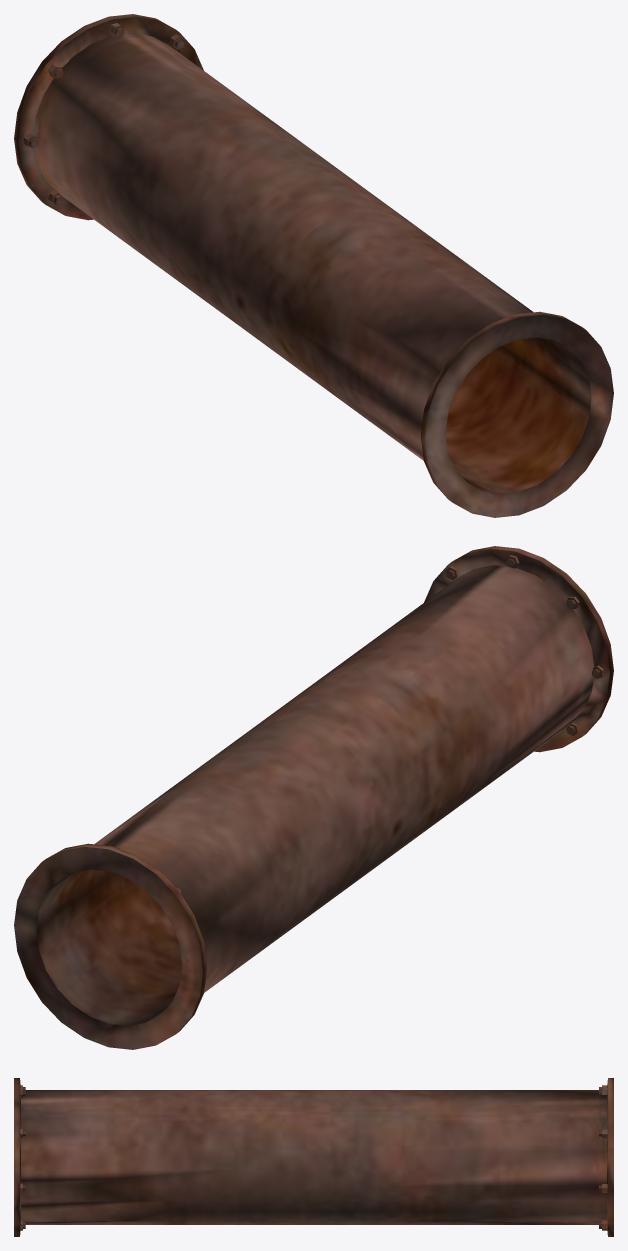
File: rusty_pipe_23.glb
3 renders of one model, top to bottom at view 1: azimuth 30°, elevation 25°; view 2: azimuth 150°, elevation 25°; view 3: azimuth 270°, elevation 25°, orthographic. The views are drawn at different scales.
Parts seen in each view (by area): view 1: rusty_pipe_23; view 2: rusty_pipe_23; view 3: rusty_pipe_23.
Boxes of the visible parts, left/top/right/bottom form: rusty_pipe_23: left=14, top=14, right=613, bottom=517; rusty_pipe_23: left=14, top=546, right=613, bottom=1049; rusty_pipe_23: left=14, top=1078, right=613, bottom=1236.
Size of what is drawn, in the model's own units: 0.0287 by 0.0287 by 0.1078.
Materials: 1 (1 with a texture image).
